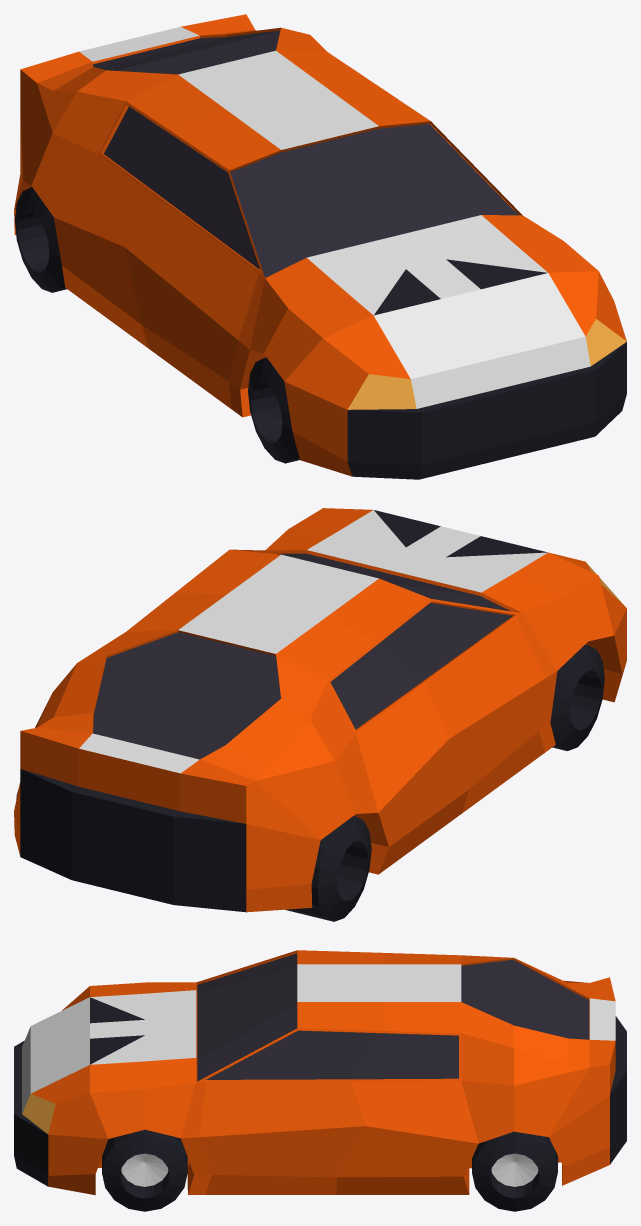
Rendered from Auto.glb.
3 views of the same model, one above another, from view 1: azimuth 30°, elevation 25°; view 2: azimuth 150°, elevation 25°; view 3: azimuth 270°, elevation 25° (orthographic). The views are drawn at different scales.
Parts seen in each view (by area): view 1: Cube; view 2: Cube; view 3: Cube.
Part boxes in pixels (left/top/right/bottom): Cube: left=14, top=14, right=626, bottom=479; Cube: left=14, top=508, right=626, bottom=921; Cube: left=14, top=950, right=626, bottom=1211.
Bounding box in the file's own units: 2.48 × 1.54 × 5.02.
